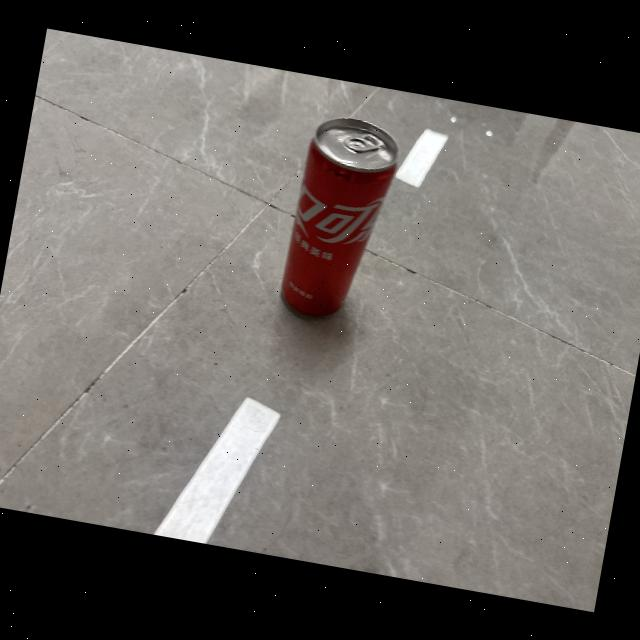Cola: (269, 107, 407, 338)
